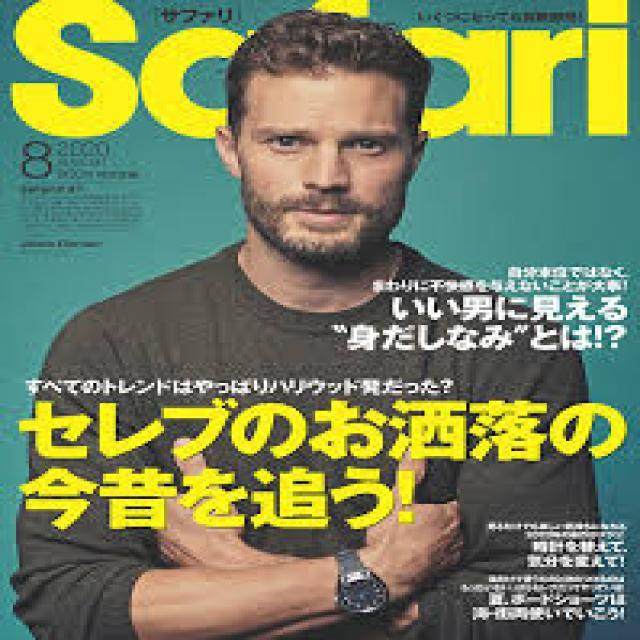Newspaper: (1, 0, 636, 636)
